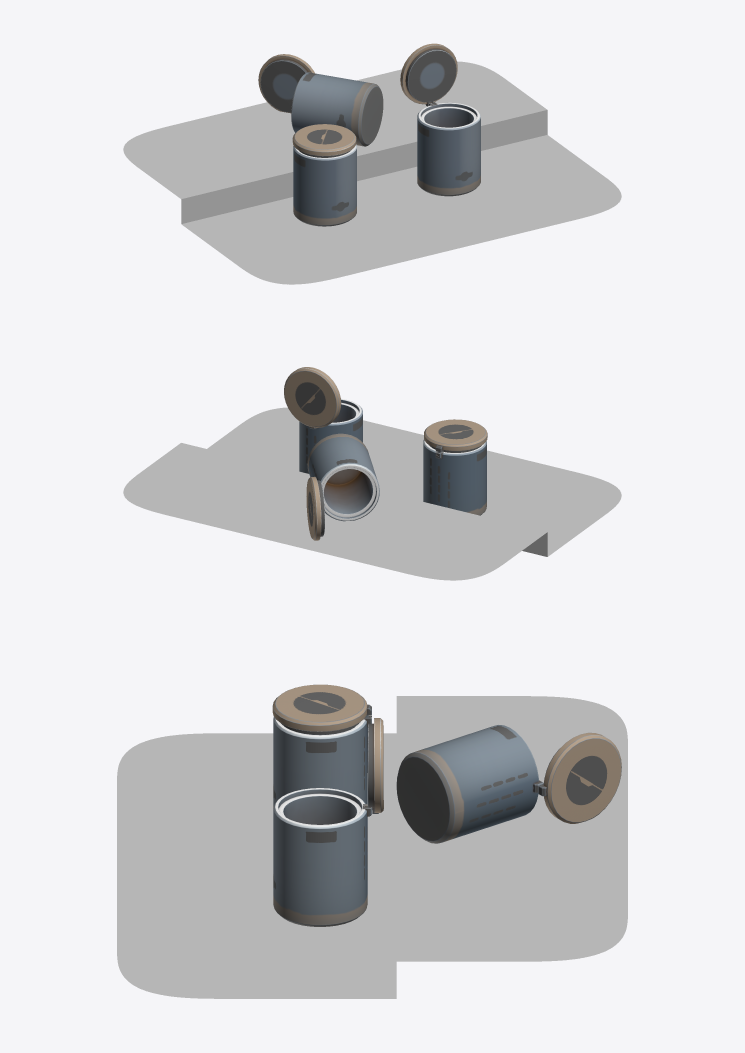
The model's file is TrashCan-pres.fbx.
3 views of the same model, one above another, from view 1: azimuth 30°, elevation 25°; view 2: azimuth 150°, elevation 25°; view 3: azimuth 270°, elevation 25° (orthographic). The views are drawn at different scales.
Visible parts, largest first — view 1: Plane, TrashCan.001, TrashCan.002, TrashCan, TrashCan-Cap.001, TrashCan-Cap.002, TrashCan-Cap; view 2: Plane, TrashCan.002, TrashCan, TrashCan-Cap.001, TrashCan-Cap, TrashCan.001, TrashCan-Cap.002; view 3: Plane, TrashCan.002, TrashCan.001, TrashCan, TrashCan-Cap.002, TrashCan-Cap, TrashCan-Cap.001.
Part boxes in pixels (x1,y1,x2,y2): Plane: (123,61,621,284); TrashCan.001: (417,101,480,196); TrashCan.002: (291,72,383,146); TrashCan: (293,144,356,226); TrashCan-Cap.001: (400,43,457,106); TrashCan-Cap.002: (258,54,314,113); TrashCan-Cap: (292,124,356,157); Plane: (123,407,621,580); TrashCan.002: (307,433,379,521); TrashCan: (423,439,486,515); TrashCan-Cap.001: (284,367,341,429); TrashCan-Cap: (424,419,487,452); TrashCan.001: (299,399,362,473); TrashCan-Cap.002: (306,476,324,540); Plane: (117,696,627,998); TrashCan.002: (396,725,543,843); TrashCan.001: (273,788,371,926); TrashCan: (273,715,371,807); TrashCan-Cap.002: (538,732,621,823); TrashCan-Cap: (272,684,371,735); TrashCan-Cap.001: (367,718,383,813).
Bounding box in the file's own units: 488 × 123 × 429.
